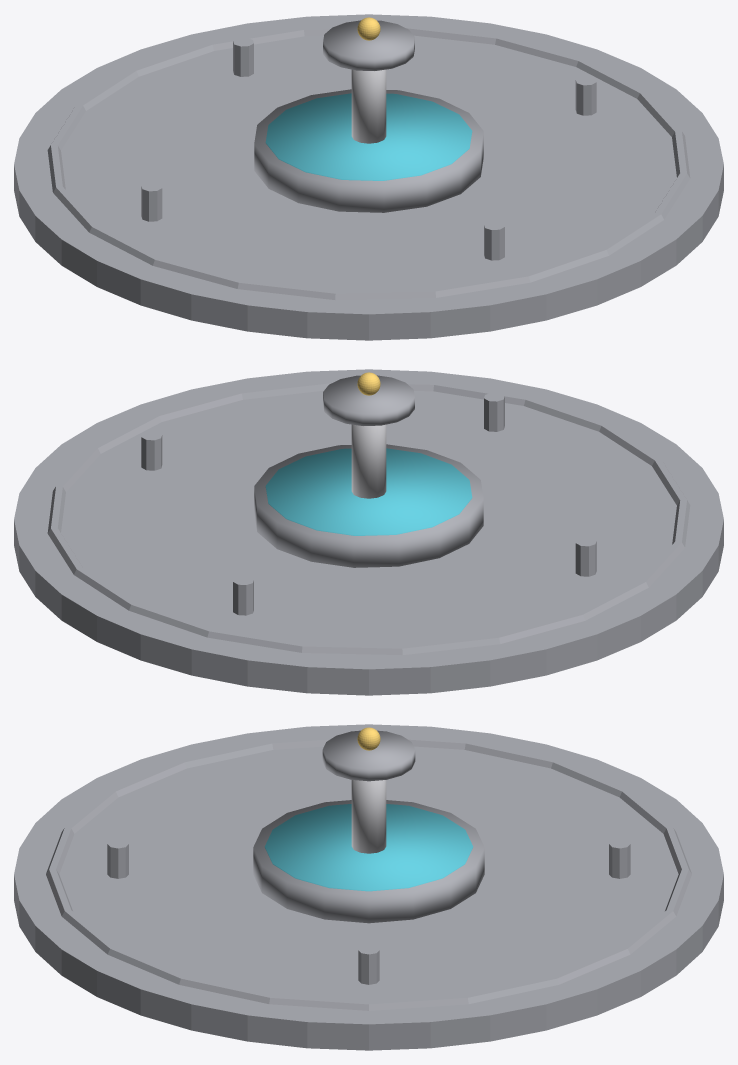
Rendered from ASTX_PLAZA_CIVIC.glb.
The picture shows the model from 3 angles, top to bottom: view 1: azimuth 30°, elevation 25°; view 2: azimuth 150°, elevation 25°; view 3: azimuth 270°, elevation 25°; orthographic projection.
Parts seen in each view (by area): view 1: ASTX_PLAZA_CIVIC_foundation, ASTX_PLAZA_CIVIC_ring, ASTX_PLAZA_CIVIC_water, ASTX_PLAZA_CIVIC_basin, ASTX_PLAZA_CIVIC_bowl, ASTX_PLAZA_CIVIC_pillar, ASTX_PLAZA_CIVIC_bollard6.50, ASTX_PLAZA_CIVIC_bollard-6.50, ASTX_PLAZA_CIVIC_bollard06.5, ASTX_PLAZA_CIVIC_bollard0-6.5; view 2: ASTX_PLAZA_CIVIC_foundation, ASTX_PLAZA_CIVIC_ring, ASTX_PLAZA_CIVIC_water, ASTX_PLAZA_CIVIC_basin, ASTX_PLAZA_CIVIC_bowl, ASTX_PLAZA_CIVIC_pillar, ASTX_PLAZA_CIVIC_bollard6.50, ASTX_PLAZA_CIVIC_bollard-6.50, ASTX_PLAZA_CIVIC_bollard0-6.5, ASTX_PLAZA_CIVIC_bollard06.5; view 3: ASTX_PLAZA_CIVIC_foundation, ASTX_PLAZA_CIVIC_ring, ASTX_PLAZA_CIVIC_water, ASTX_PLAZA_CIVIC_basin, ASTX_PLAZA_CIVIC_bowl, ASTX_PLAZA_CIVIC_pillar, ASTX_PLAZA_CIVIC_bollard6.50, ASTX_PLAZA_CIVIC_bollard06.5, ASTX_PLAZA_CIVIC_bollard0-6.5.
Boxes of the visible parts, left/top/right/bottom form: ASTX_PLAZA_CIVIC_foundation: left=14, top=14, right=723, bottom=340; ASTX_PLAZA_CIVIC_ring: left=47, top=25, right=690, bottom=300; ASTX_PLAZA_CIVIC_water: left=265, top=93, right=472, bottom=180; ASTX_PLAZA_CIVIC_basin: left=254, top=89, right=483, bottom=212; ASTX_PLAZA_CIVIC_bowl: left=323, top=20, right=414, bottom=70; ASTX_PLAZA_CIVIC_pillar: left=351, top=69, right=386, bottom=143; ASTX_PLAZA_CIVIC_bollard6.50: left=575, top=76, right=596, bottom=115; ASTX_PLAZA_CIVIC_bollard-6.50: left=141, top=182, right=162, bottom=221; ASTX_PLAZA_CIVIC_bollard06.5: left=484, top=221, right=504, bottom=260; ASTX_PLAZA_CIVIC_bollard0-6.5: left=233, top=37, right=253, bottom=76; ASTX_PLAZA_CIVIC_foundation: left=14, top=369, right=723, bottom=695; ASTX_PLAZA_CIVIC_ring: left=47, top=380, right=690, bottom=655; ASTX_PLAZA_CIVIC_water: left=265, top=448, right=472, bottom=535; ASTX_PLAZA_CIVIC_basin: left=254, top=444, right=483, bottom=567; ASTX_PLAZA_CIVIC_bowl: left=323, top=375, right=414, bottom=425; ASTX_PLAZA_CIVIC_pillar: left=351, top=424, right=386, bottom=498; ASTX_PLAZA_CIVIC_bollard6.50: left=141, top=431, right=162, bottom=470; ASTX_PLAZA_CIVIC_bollard-6.50: left=575, top=537, right=596, bottom=576; ASTX_PLAZA_CIVIC_bollard0-6.5: left=233, top=576, right=253, bottom=615; ASTX_PLAZA_CIVIC_bollard06.5: left=484, top=392, right=504, bottom=431; ASTX_PLAZA_CIVIC_foundation: left=14, top=724, right=723, bottom=1050; ASTX_PLAZA_CIVIC_ring: left=46, top=736, right=691, bottom=1010; ASTX_PLAZA_CIVIC_water: left=264, top=804, right=473, bottom=891; ASTX_PLAZA_CIVIC_basin: left=253, top=800, right=484, bottom=923; ASTX_PLAZA_CIVIC_bowl: left=322, top=730, right=415, bottom=781; ASTX_PLAZA_CIVIC_pillar: left=351, top=780, right=386, bottom=853; ASTX_PLAZA_CIVIC_bollard6.50: left=358, top=945, right=379, bottom=984; ASTX_PLAZA_CIVIC_bollard06.5: left=107, top=839, right=128, bottom=878; ASTX_PLAZA_CIVIC_bollard0-6.5: left=609, top=839, right=630, bottom=878.
Bounding box in the file's own units: 18.4 × 4.92 × 18.4.
